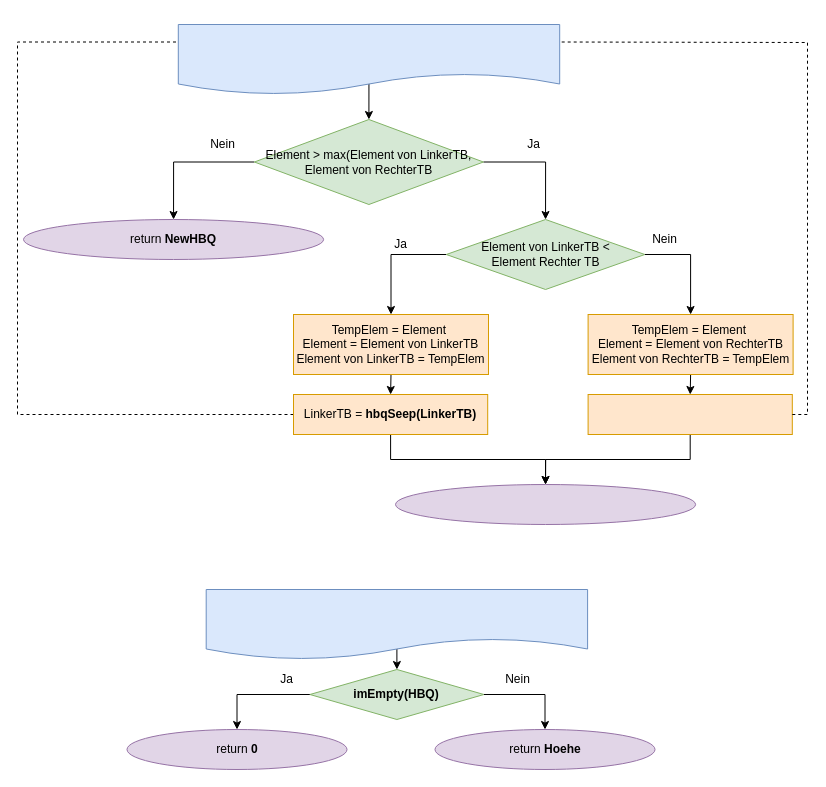
This 826x787 diagram has some shape labels left out. Here are the shapes that lost their labels. From the top down, the centre of each, then its label:
At pixel 368 59: "Start von hbqSeep(NewHBQ) Rückgabewert: neu strukturierte HBQ".
At pixel 689 414: "RechterTB = hbqSeep(RechterTB)".
At pixel 545 504: "return {Element, Höhe, LinkerTB, RechterTB}".
At pixel 396 624: "Start von getHoehe(HBQ) Rückgabewert: gibt die Hoehe der HBQ zurück".
